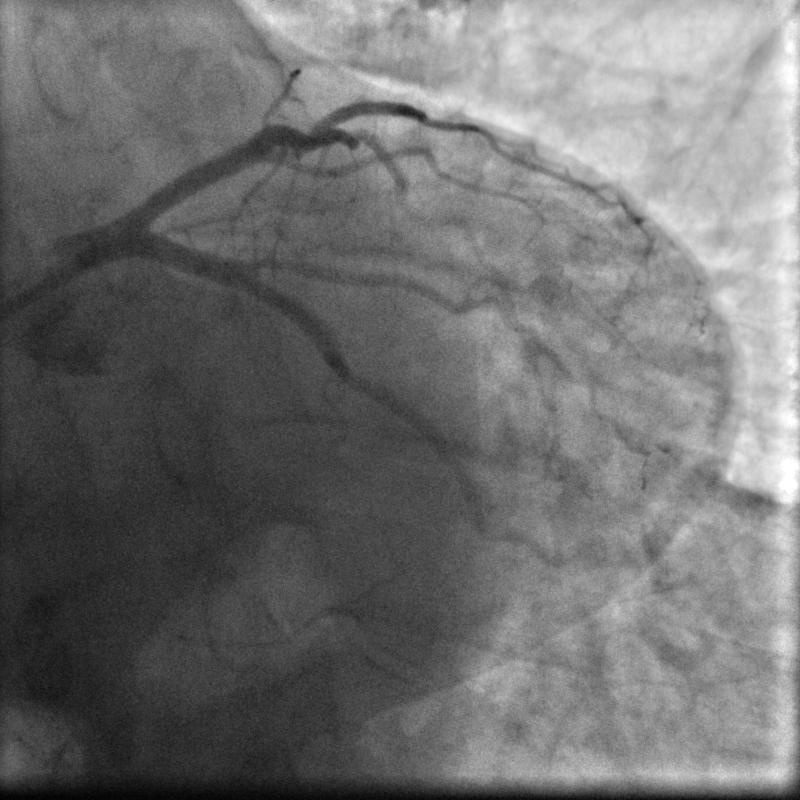Stenosis: (348, 350, 385, 408)
